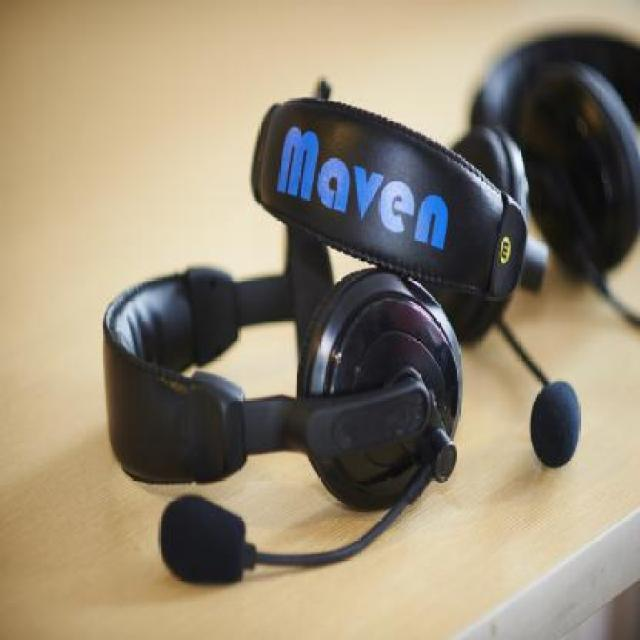earphone: (69, 146, 564, 582)
